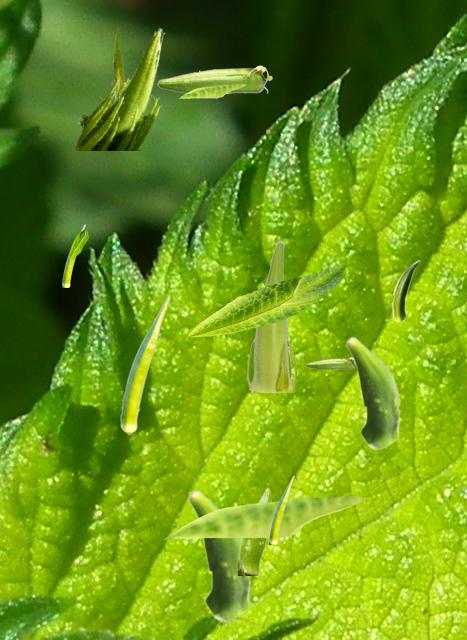okra: (74, 27, 164, 149), (187, 489, 251, 621), (246, 240, 295, 391), (120, 296, 169, 434), (345, 336, 400, 449), (157, 65, 271, 93), (238, 487, 271, 574), (391, 260, 419, 322), (269, 475, 293, 543), (62, 224, 84, 286), (113, 28, 123, 98), (306, 357, 355, 368)
